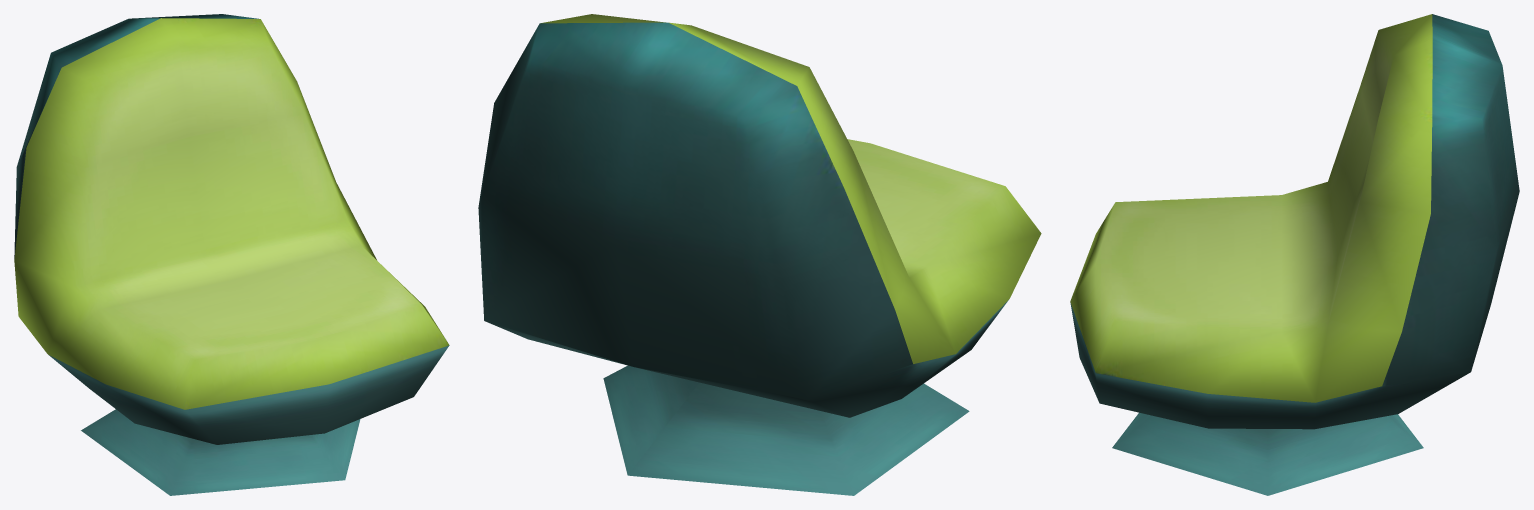
File: sofa5.fbx
3 views of the same model, side by side, from view 1: azimuth 30°, elevation 25°; view 2: azimuth 150°, elevation 25°; view 3: azimuth 270°, elevation 25° (orthographic). The views are drawn at different scales.
Parts seen in each view (by area): view 1: sofa5; view 2: sofa5; view 3: sofa5.
Part boxes in pixels (<box>): sofa5: <box>14,14,449,495</box>; sofa5: <box>478,14,1041,495</box>; sofa5: <box>1070,14,1519,495</box>.
Size of the model in its own units: 7.11 by 7.32 by 7.64.
